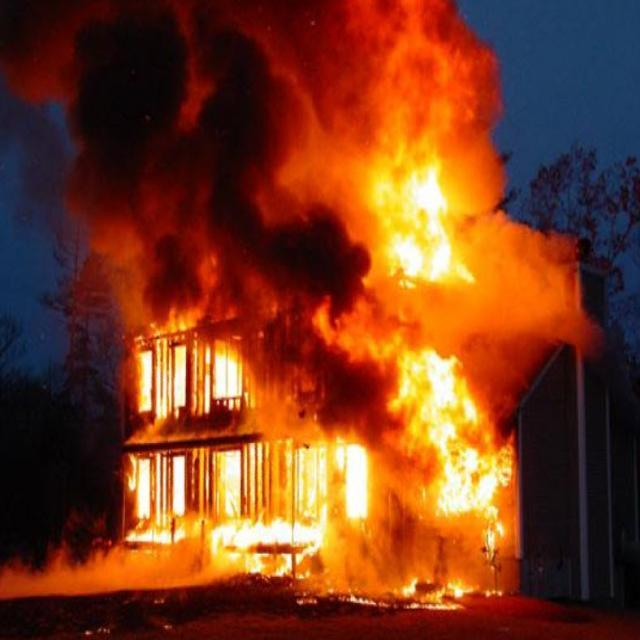Fire: (124, 0, 518, 609)
Smoke: (0, 0, 275, 285)
